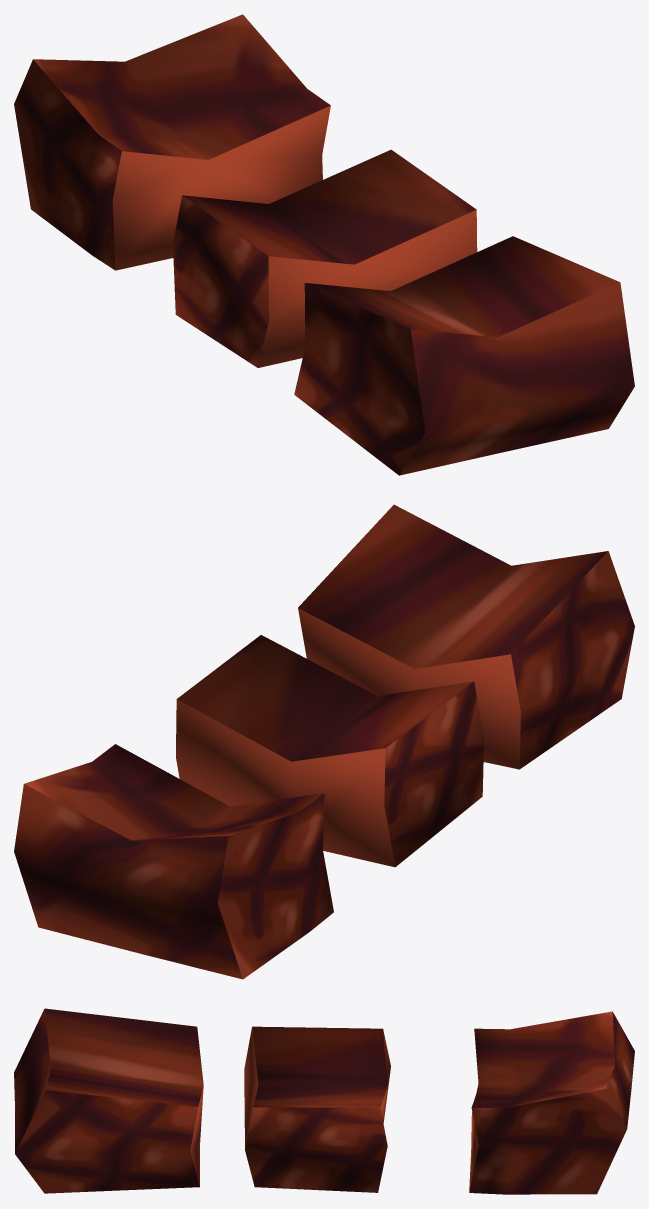
The model's file is GGOCHIMEAT_cooked.fbx.
3 renders of one model, top to bottom at view 1: azimuth 30°, elevation 25°; view 2: azimuth 150°, elevation 25°; view 3: azimuth 270°, elevation 25°, orthographic. The views are drawn at different scales.
Visible parts, largest first — view 1: GGOCHIMEAT_COOKED_01, GGOCHIMEAT_COOKED_03, GGOCHIMEAT_COOKED_02; view 2: GGOCHIMEAT_COOKED_01, GGOCHIMEAT_COOKED_03, GGOCHIMEAT_COOKED_02; view 3: GGOCHIMEAT_COOKED_01, GGOCHIMEAT_COOKED_03, GGOCHIMEAT_COOKED_02.
Part boxes in pixels (x1,y1,x2,y2): GGOCHIMEAT_COOKED_01: (294,236,634,475); GGOCHIMEAT_COOKED_03: (14,14,330,270); GGOCHIMEAT_COOKED_02: (173,149,477,367); GGOCHIMEAT_COOKED_01: (298,504,634,769); GGOCHIMEAT_COOKED_03: (14,744,333,979); GGOCHIMEAT_COOKED_02: (176,635,483,867); GGOCHIMEAT_COOKED_01: (14,1008,203,1193); GGOCHIMEAT_COOKED_03: (469,1011,634,1194); GGOCHIMEAT_COOKED_02: (244,1026,390,1192).
Size of the model in its own units: 14.05 by 9.02 by 44.43.
